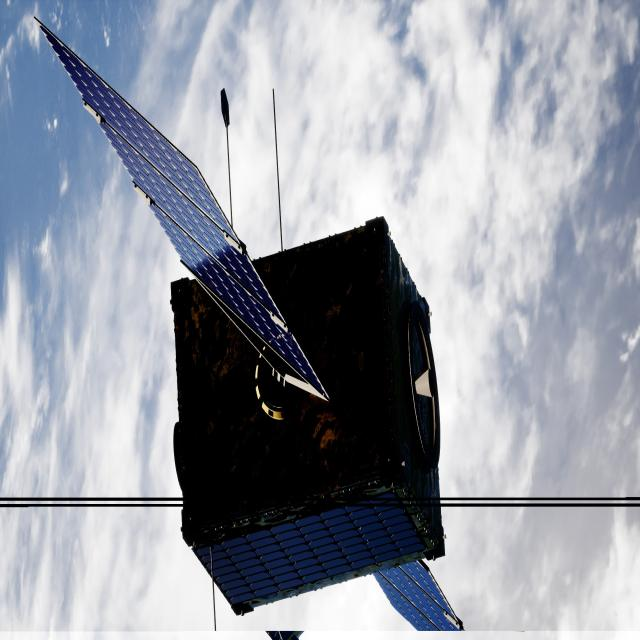medium_debris: (38, 22, 463, 633)
